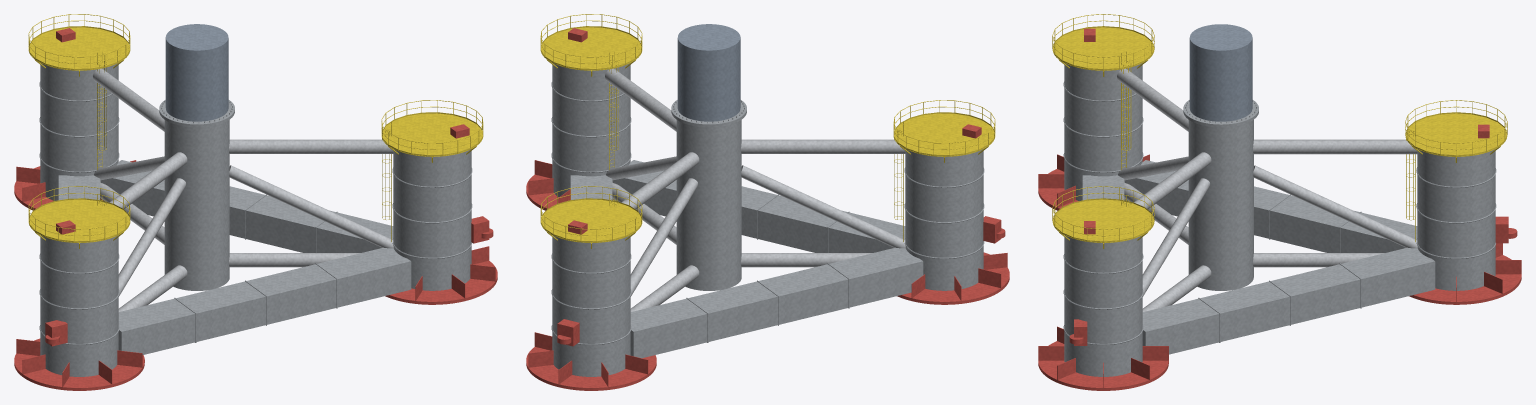
The model's file is floating-wind-foundation-blocks.glb.
The picture shows the model from 3 angles, left to right: view 1: azimuth 30°, elevation 25°; view 2: azimuth 150°, elevation 25°; view 3: azimuth 270°, elevation 25°; orthographic projection.
Parts seen in each view (by area): view 1: Columns, Pontoons, Braces, AccessPlatforms&Ladders, CentreColumn&TowerFlange, HeavePlates, TurbineTower(context), Fairlead&ChainStopperFoundations; view 2: Columns, Pontoons, Braces, AccessPlatforms&Ladders, CentreColumn&TowerFlange, HeavePlates, TurbineTower(context), Fairlead&ChainStopperFoundations; view 3: Columns, Pontoons, Braces, AccessPlatforms&Ladders, CentreColumn&TowerFlange, HeavePlates, TurbineTower(context), Fairlead&ChainStopperFoundations.
Part boxes in pixels (x1,y1,x2,y2): Columns: [39, 63, 472, 376]; Pontoons: [58, 160, 411, 354]; Braces: [93, 68, 393, 311]; AccessPlatforms&Ladders: [28, 14, 483, 248]; CentreColumn&TowerFlange: [159, 100, 234, 290]; HeavePlates: [14, 160, 497, 390]; TurbineTower(context): [165, 24, 228, 121]; Fairlead&ChainStopperFoundations: [45, 28, 493, 346]; Columns: [551, 63, 984, 376]; Pontoons: [570, 160, 923, 358]; Braces: [605, 68, 905, 311]; AccessPlatforms&Ladders: [540, 14, 995, 248]; CentreColumn&TowerFlange: [671, 100, 746, 290]; HeavePlates: [526, 160, 1009, 390]; TurbineTower(context): [677, 24, 740, 121]; Fairlead&ChainStopperFoundations: [557, 28, 1005, 346]; Columns: [1063, 63, 1496, 376]; Pontoons: [1082, 160, 1435, 354]; Braces: [1117, 68, 1417, 311]; AccessPlatforms&Ladders: [1052, 14, 1507, 248]; CentreColumn&TowerFlange: [1183, 100, 1258, 290]; HeavePlates: [1038, 154, 1521, 390]; TurbineTower(context): [1189, 24, 1252, 121]; Fairlead&ChainStopperFoundations: [1069, 28, 1517, 345].
Size of the model in its own units: 41.18 by 20.25 by 37.
Materials: 5 (5 with a texture image).
